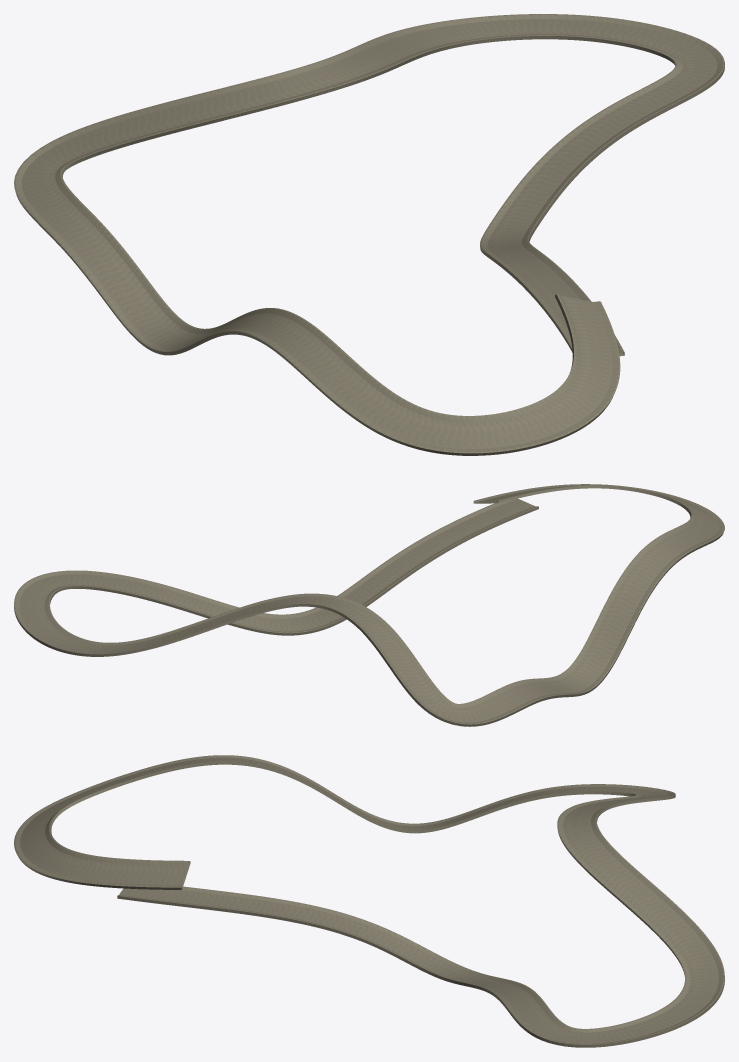
The model's file is coaster.obj.
The picture shows the model from 3 angles, top to bottom: view 1: azimuth 30°, elevation 25°; view 2: azimuth 150°, elevation 25°; view 3: azimuth 270°, elevation 25°; orthographic projection. The views are drawn at different scales.
Parts seen in each view (by area): view 1: Plane.001; view 2: Plane.001; view 3: Plane.001.
Part boxes in pixels (x1,y1,x2,y2): Plane.001: (14,14,724,455); Plane.001: (14,484,724,726); Plane.001: (14,755,724,1047).
Bounding box in the file's own units: 819 × 153 × 919.
1 material, 1 textured.
